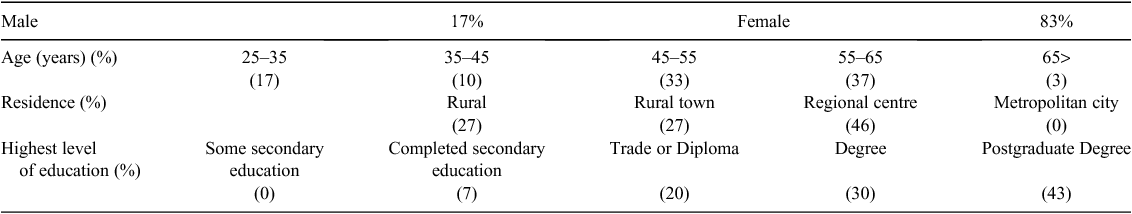fracking table: (1, 2, 1132, 212)
